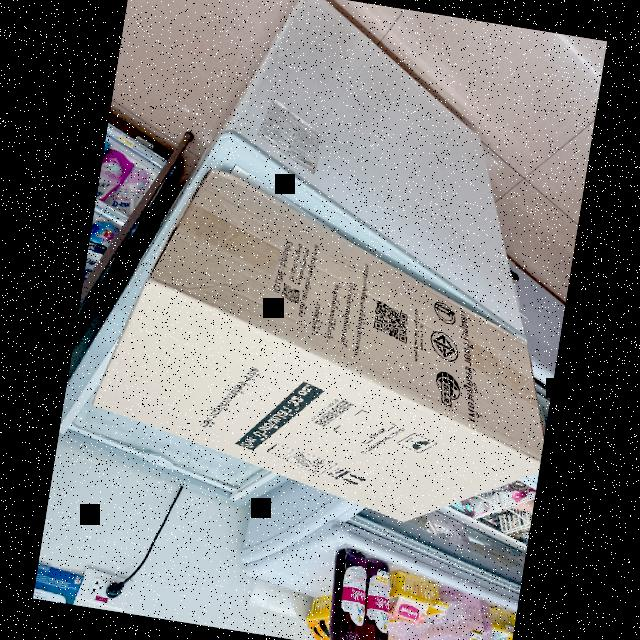cardboard_box: (90, 157, 539, 526)
